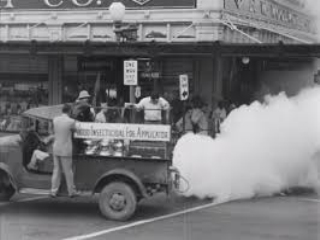smoke: (169, 89, 320, 198)
